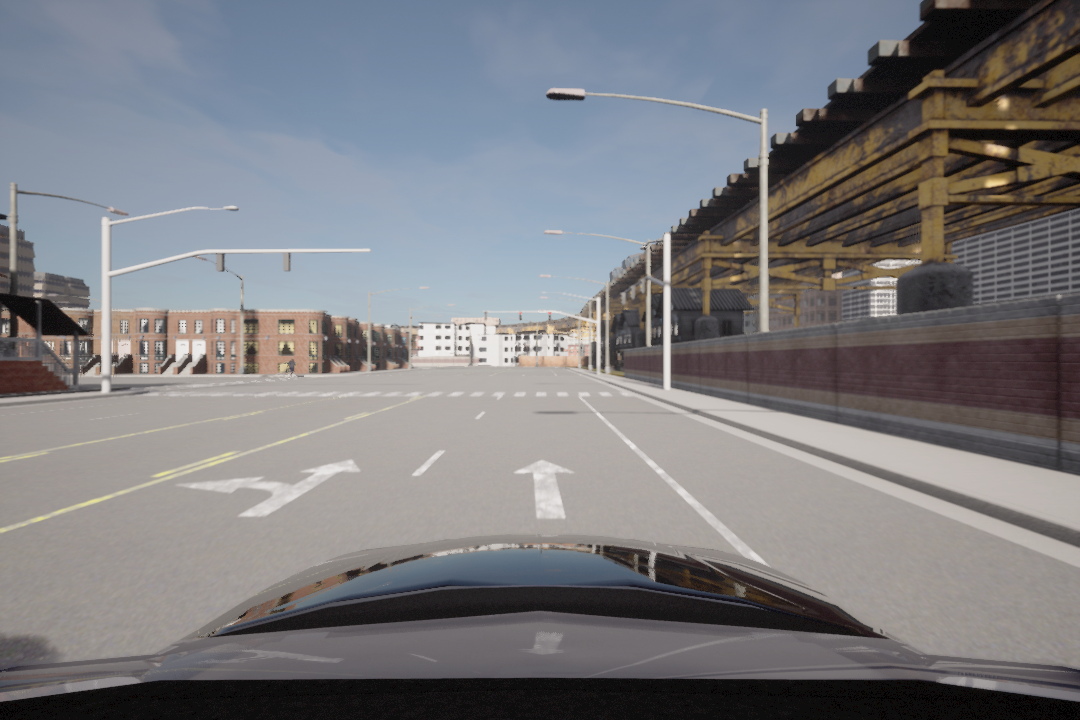RoadSign_forward: (500, 457, 594, 528)
RoadSign_forward_left: (167, 457, 368, 524)
walkside: (141, 386, 637, 402)
